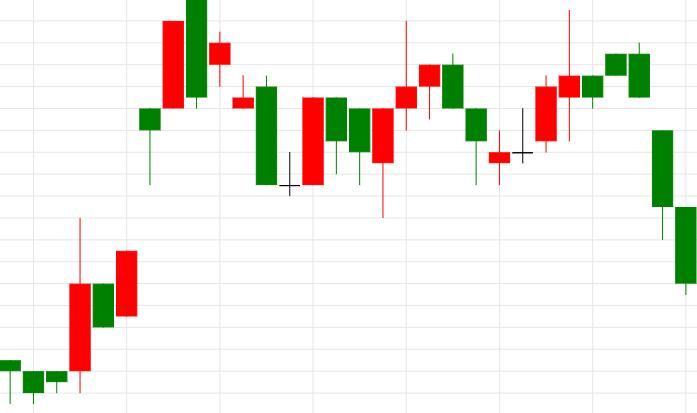morning_star_rise: (186, 0, 324, 196)
three_black_crows_fall: (488, 10, 697, 294)
